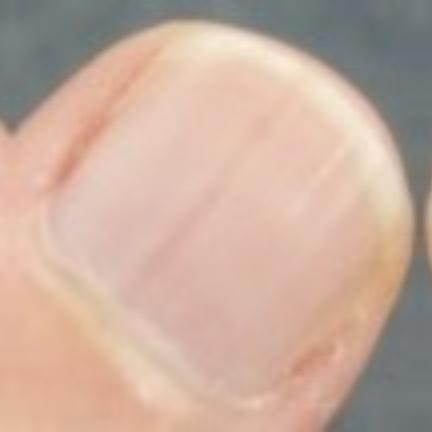Nail: (44, 36, 400, 398)
